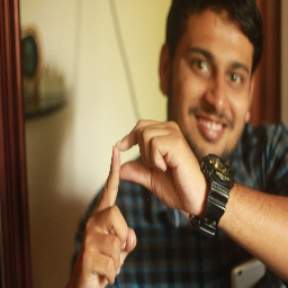P: (72, 116, 194, 282)
